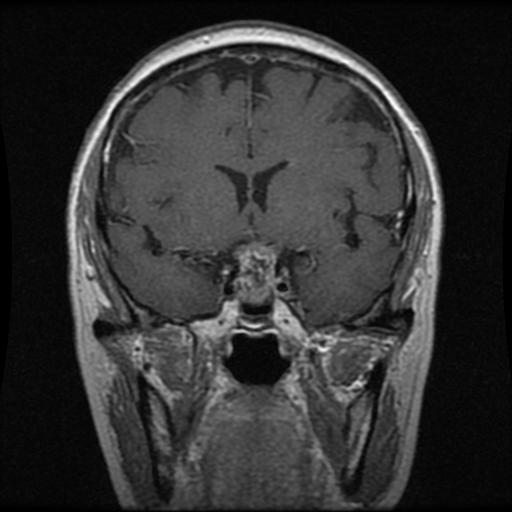Pituirity_tumour: (232, 245, 277, 304)
